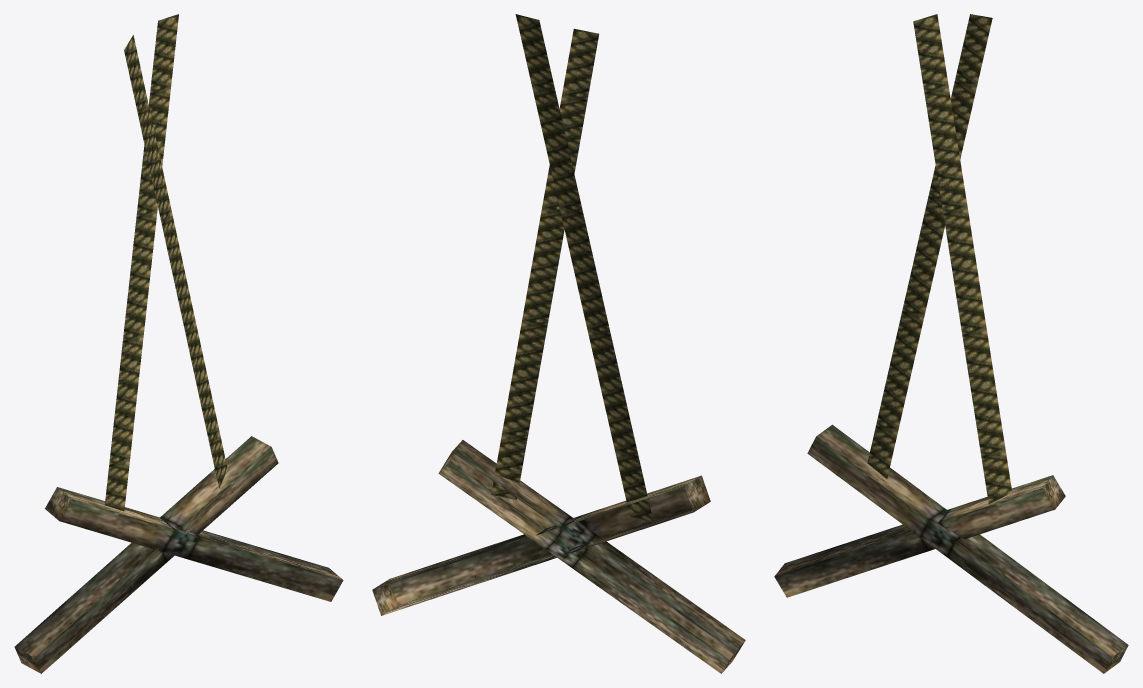
File: OC_WEAPON_ARMORHOLDER.glb
3 views of the same model, side by side, from view 1: azimuth 30°, elevation 25°; view 2: azimuth 150°, elevation 25°; view 3: azimuth 330°, elevation 25° (orthographic). The views are drawn at different scales.
Visible parts, largest first — view 1: Mesh; view 2: Mesh; view 3: Mesh.
Part boxes in pixels (bbox=[...]): Mesh: bbox=[14, 14, 343, 673]; Mesh: bbox=[372, 14, 745, 673]; Mesh: bbox=[774, 14, 1128, 673].
Bounding box in the file's own units: 0.989 × 1.74 × 0.1891.
Materials: 1 (1 with a texture image).
